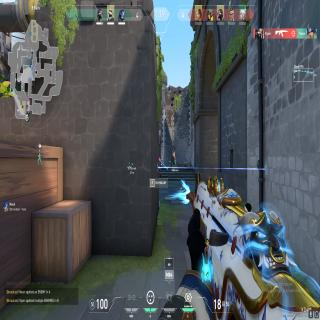ENEMY-BODY: (158, 156, 163, 180), (172, 149, 176, 167)
ENEMY-HEAD: (173, 150, 174, 152)
